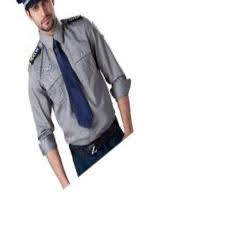uniform: (15, 14, 141, 186)
